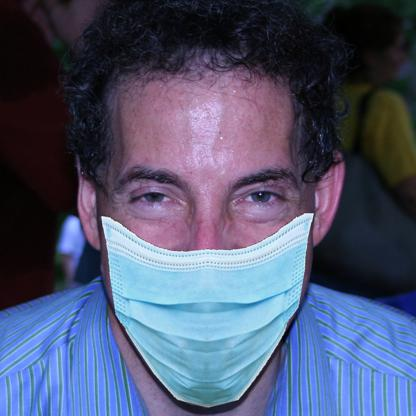mask: (97, 214, 318, 407)
